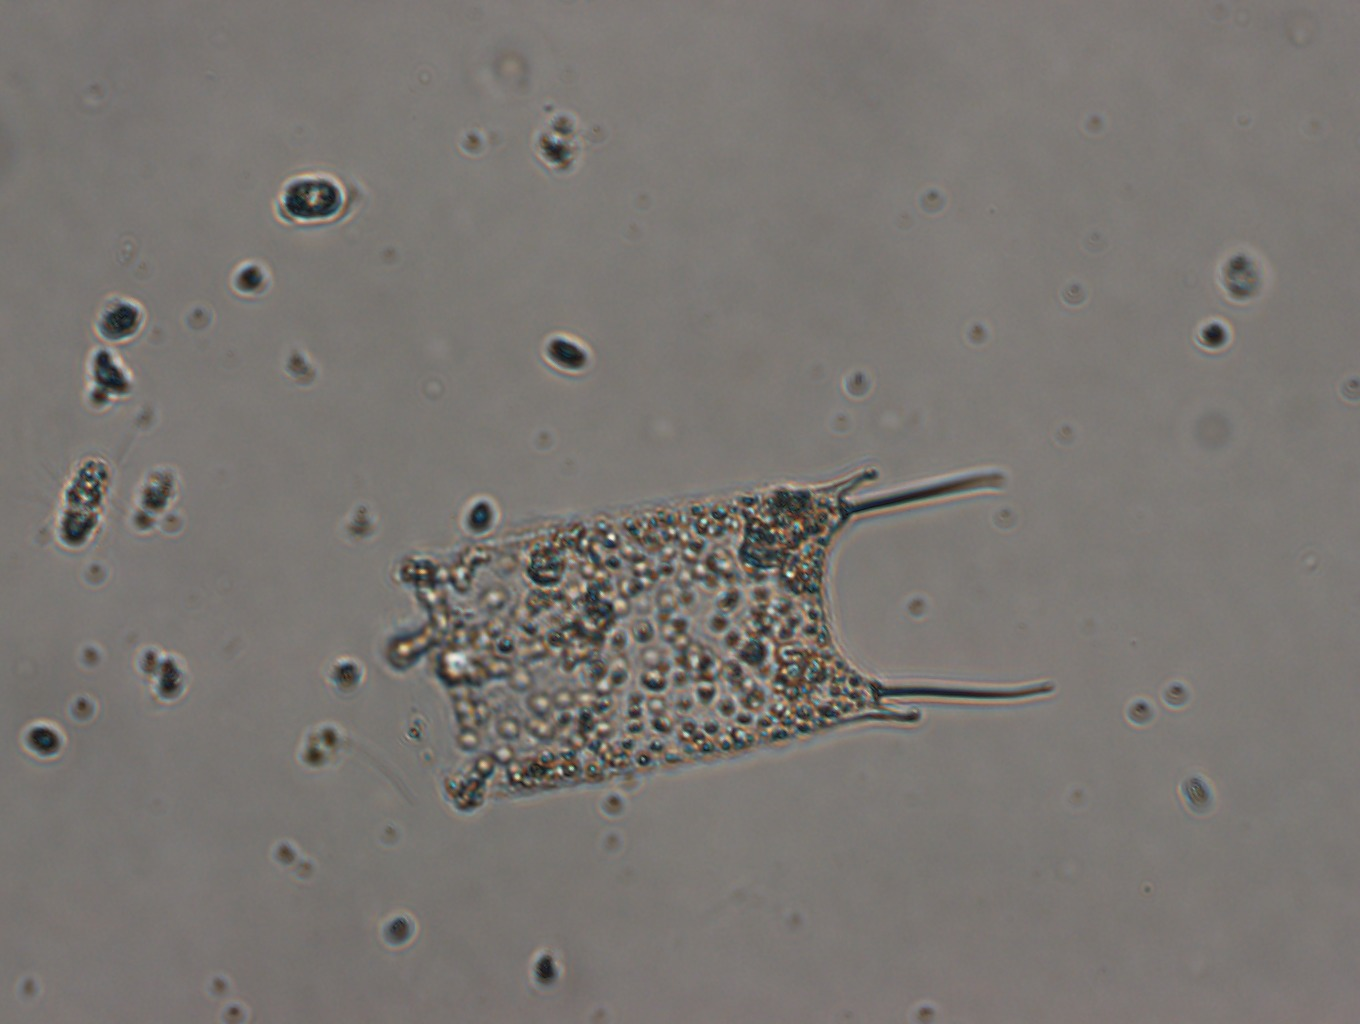biddulphia: (396, 459, 1057, 809)
